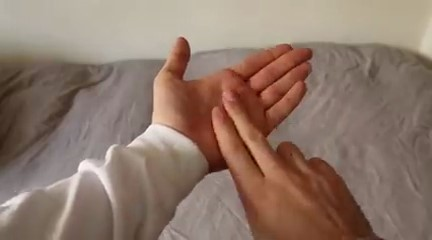N: (138, 31, 366, 233)
